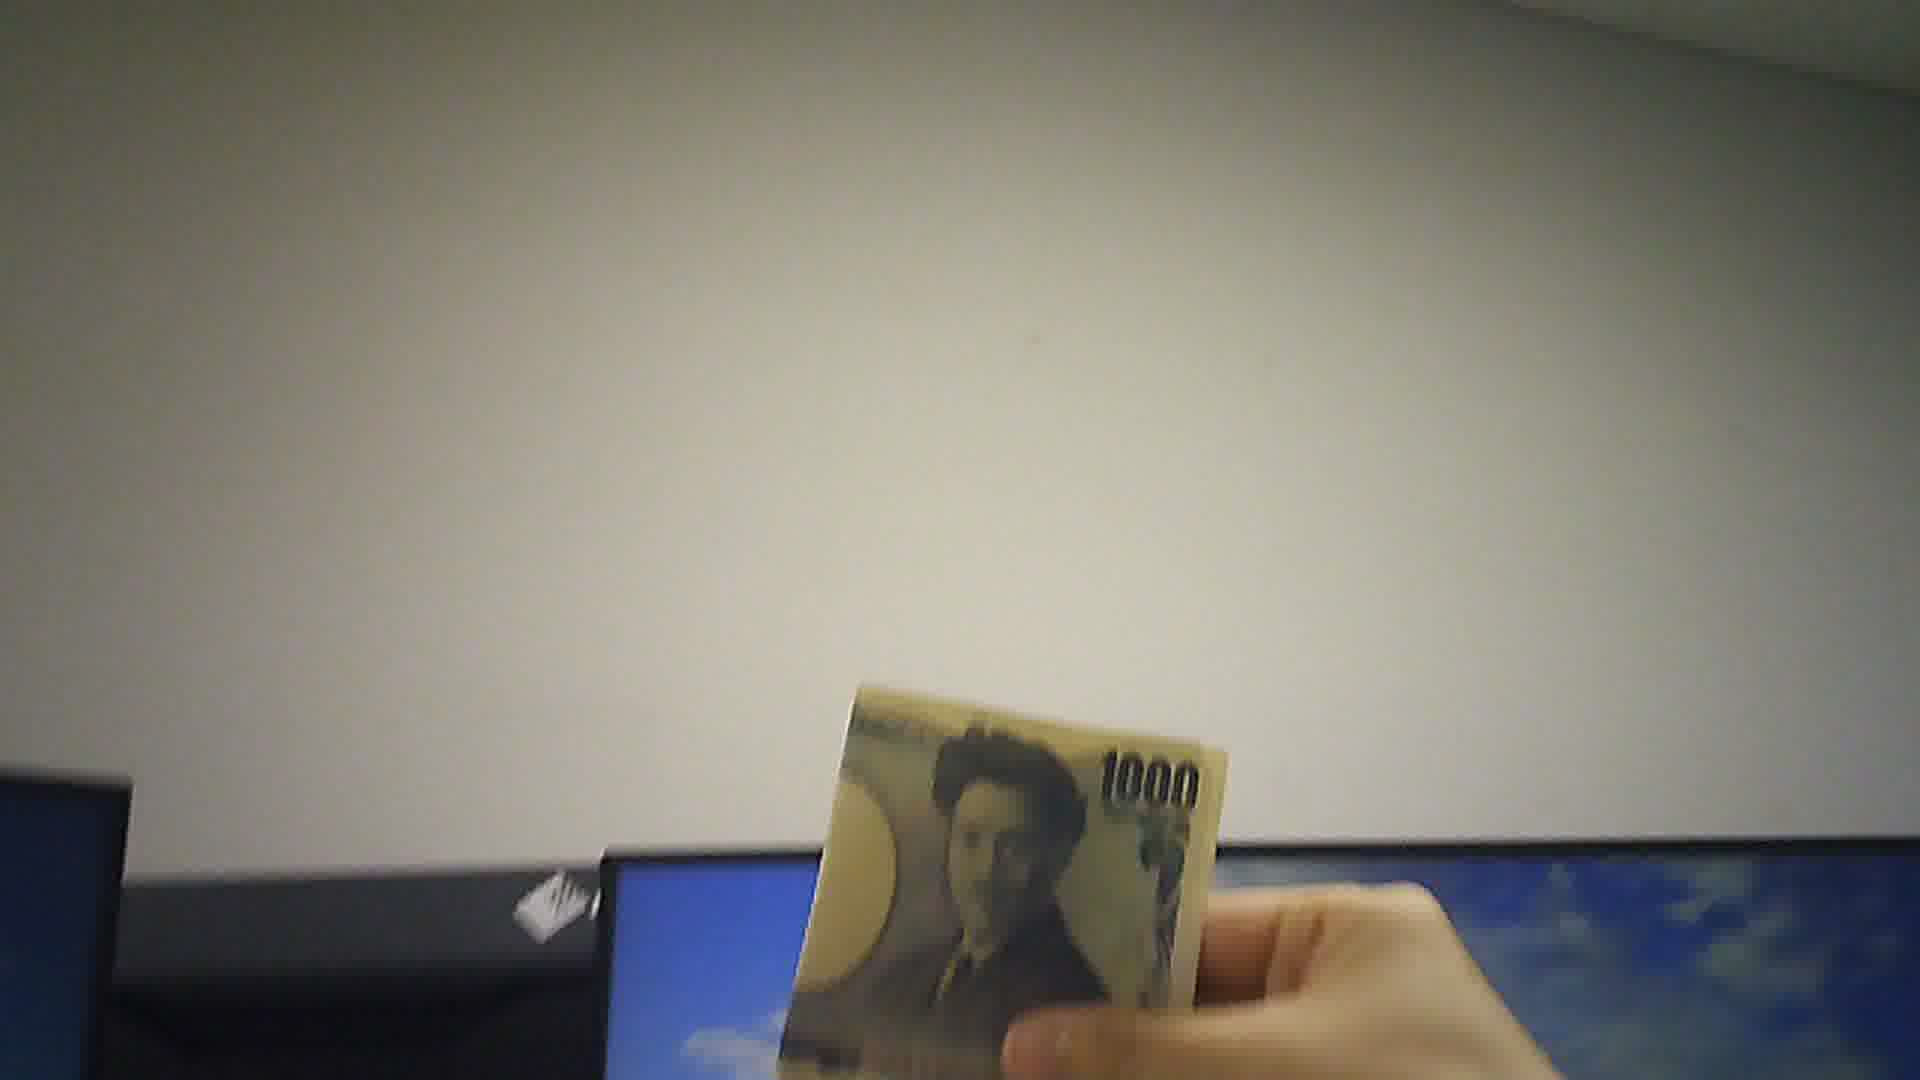1,000 Yen: (794, 676, 1215, 1079)
